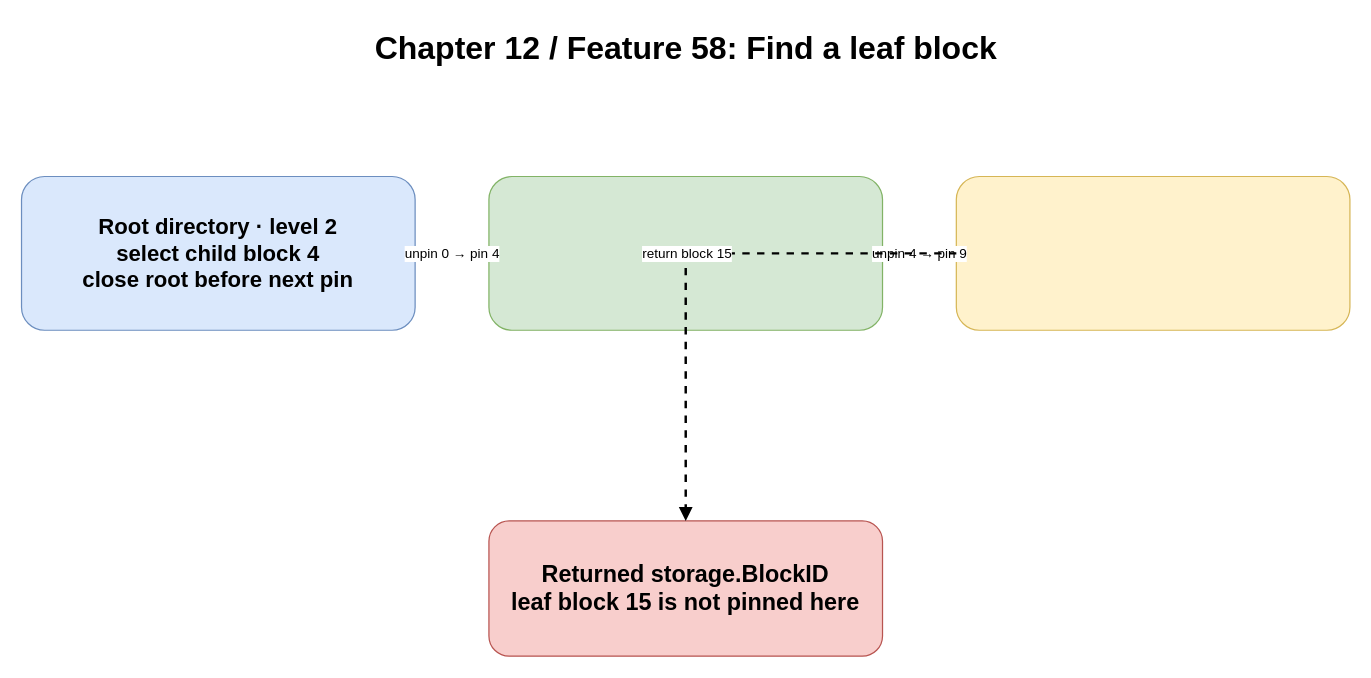
The diagram is 1371 pixels wide and 678 high, and some of its shapes have lost their labels. The shapes that lost their labels are listed below. From the top down, each one's centre as x and y in pixels, then its label:
At point 685,252: "Directory · level 1 select child block 9 close before next pin".
At point 1152,252: "Directory · level 0 select leaf block 15 caller closes this page".
